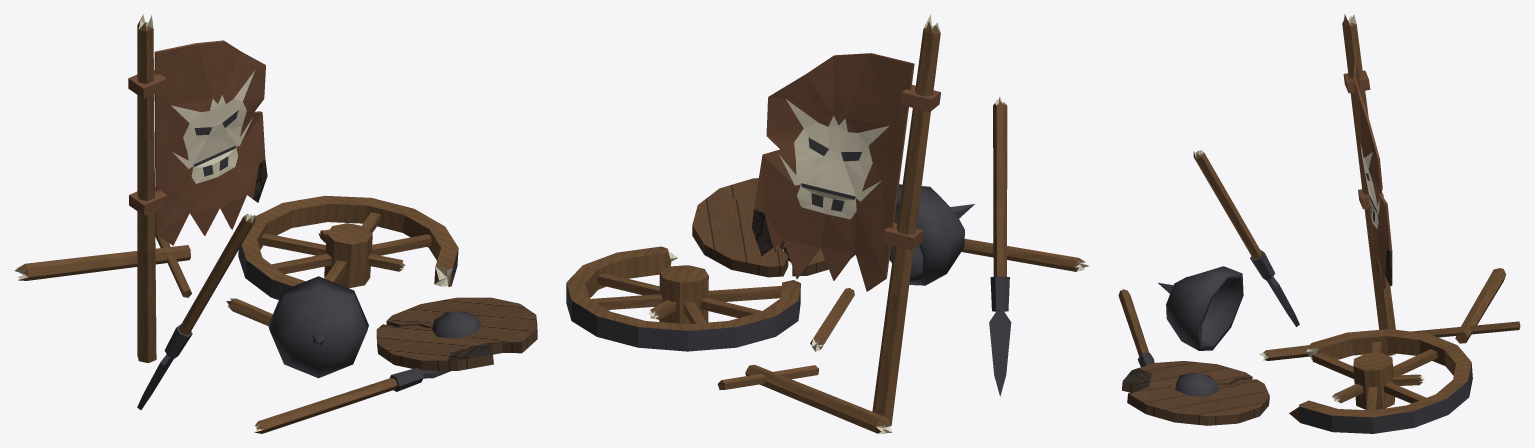
The model's file is battle_debris_a.fbx.
The picture shows the model from 3 angles, left to right: view 1: azimuth 30°, elevation 25°; view 2: azimuth 150°, elevation 25°; view 3: azimuth 270°, elevation 25°; orthographic projection. The views are drawn at different scales.
Visible parts, largest first — view 1: battle_debris_a_Wood, battle_debris_a_Cloth, battle_debris_a_Iron; view 2: battle_debris_a_Wood, battle_debris_a_Cloth, battle_debris_a_Iron; view 3: battle_debris_a_Wood, battle_debris_a_Iron, battle_debris_a_Cloth.
Part boxes in pixels (left/top/right/bottom): battle_debris_a_Wood: left=14, top=14, right=537, bottom=433; battle_debris_a_Cloth: left=154, top=40, right=267, bottom=245; battle_debris_a_Iron: left=268, top=276, right=368, bottom=378; battle_debris_a_Wood: left=566, top=14, right=1088, bottom=433; battle_debris_a_Cloth: left=751, top=53, right=914, bottom=291; battle_debris_a_Iron: left=889, top=184, right=974, bottom=285; battle_debris_a_Wood: left=1118, top=14, right=1520, bottom=433; battle_debris_a_Iron: left=1158, top=266, right=1243, bottom=350; battle_debris_a_Cloth: left=1353, top=58, right=1392, bottom=288.
Size of the model in its own units: 8.07 by 7.88 by 8.69.
Materials: 1 (1 with a texture image).
